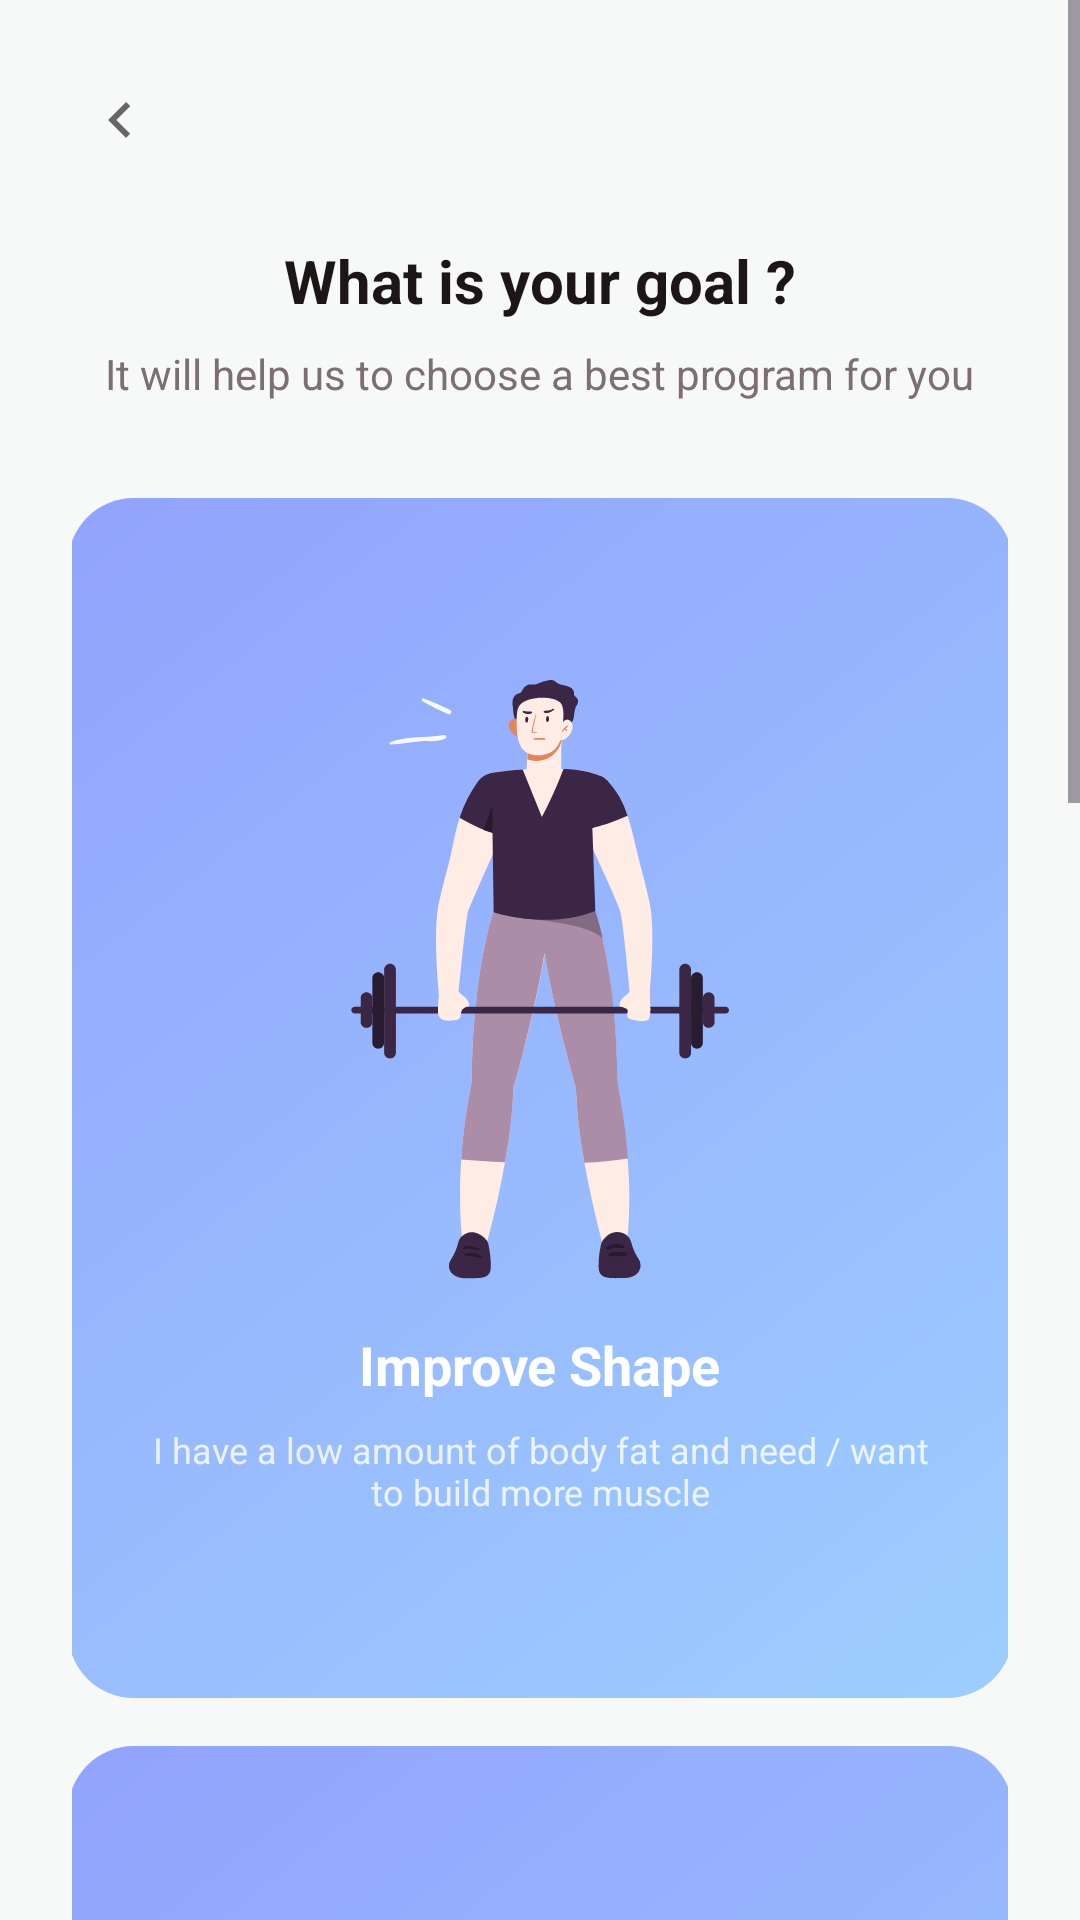

Where to tap for icons on this 1080*1920 app screen, as [x,y]:
arrow back: [119,120]
